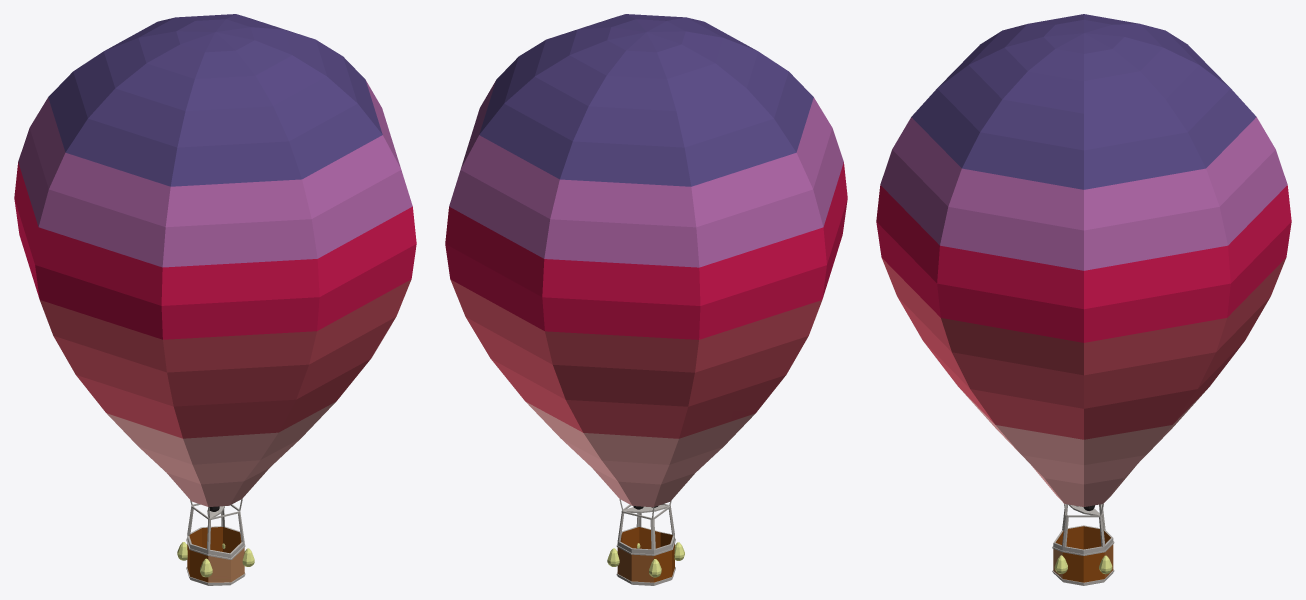
The model's file is balonudara1.fbx.
3 views of the same model, side by side, from view 1: azimuth 30°, elevation 25°; view 2: azimuth 150°, elevation 25°; view 3: azimuth 270°, elevation 25° (orthographic).
Visible parts, largest first — view 1: Cube.002; view 2: Cube.002; view 3: Cube.002.
Part boxes in pixels (x1,y1,x2,y2): Cube.002: (14, 14, 416, 585); Cube.002: (445, 14, 847, 585); Cube.002: (876, 14, 1291, 585).
Size of the model in its own units: 299 by 429 by 299.
